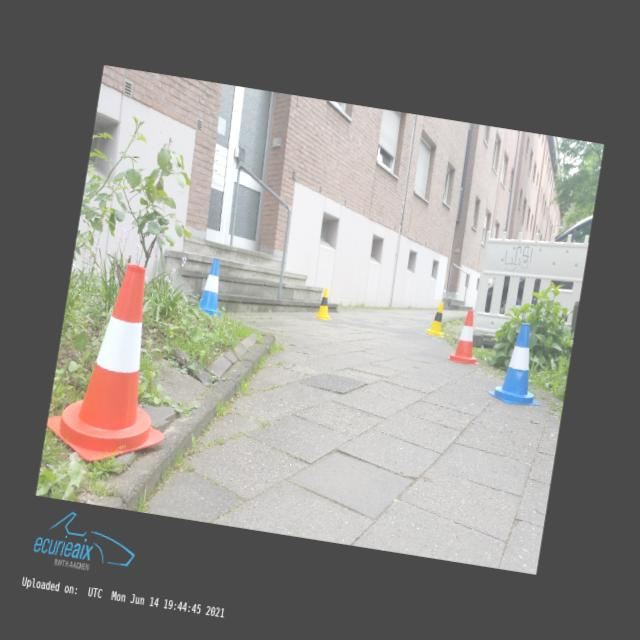blue_cone: (486, 319, 552, 408), (197, 258, 230, 316)
orange_cone: (42, 256, 190, 472), (447, 308, 488, 366)
yellow_cone: (425, 300, 449, 338), (313, 286, 337, 321)
